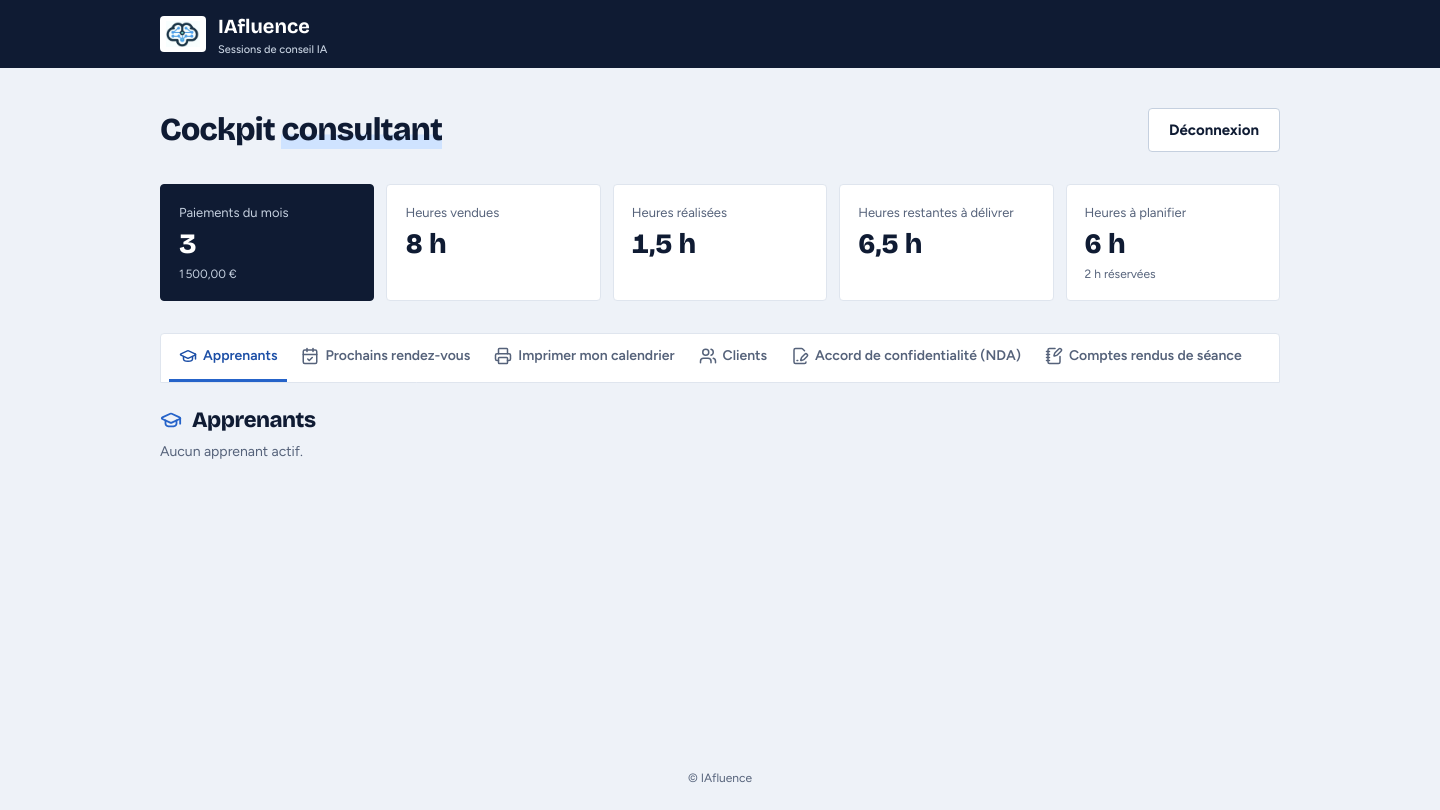
Test case: Cockpit › logs out back to the sign-in page, even if the request fails
Click the button "Déconnexion". click: (1214, 130)
box: x1=1148 y1=108 x2=1280 y2=152
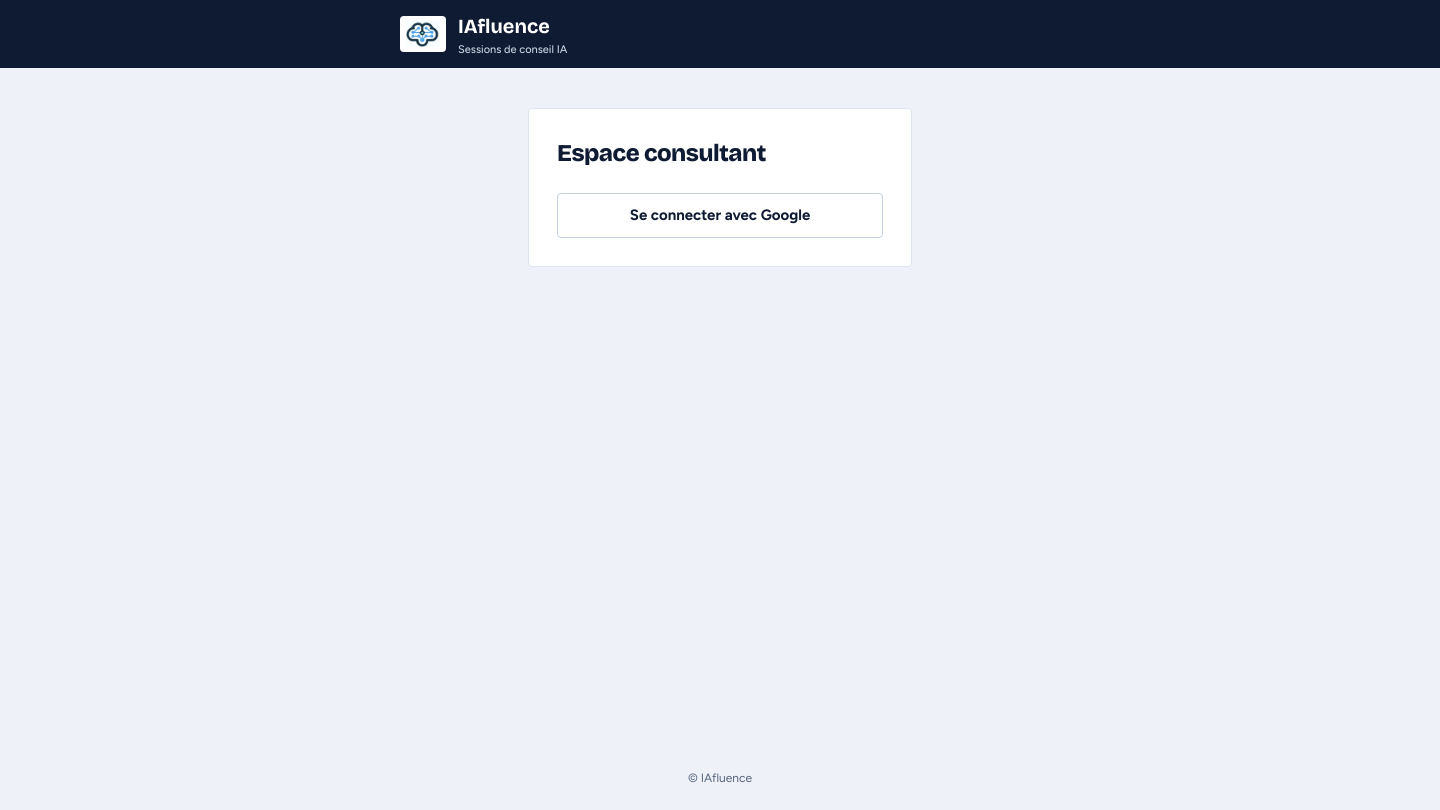
Now the heading "Espace consultant" is shown, box x1=557 y1=139 x2=766 y2=167
